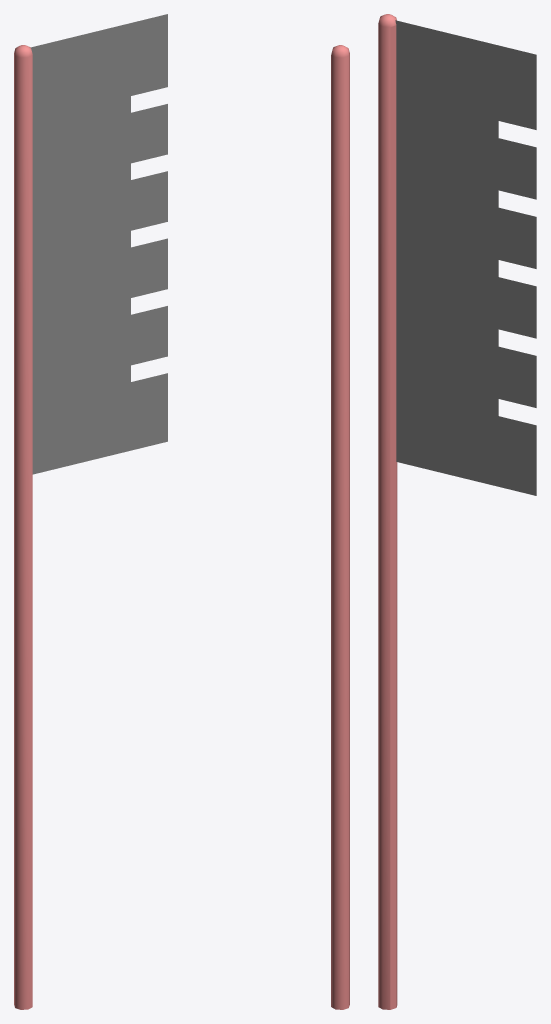
File: CHN_FlagSmall01.gltf
3 views of the same model, side by side, from view 1: azimuth 30°, elevation 25°; view 2: azimuth 150°, elevation 25°; view 3: azimuth 330°, elevation 25° (orthographic). The views are drawn at different scales.
Parts seen in each view (by area): view 1: CHN_FlagSmall01; view 2: CHN_FlagSmall01; view 3: CHN_FlagSmall01.
Boxes of the visible parts, x1,y1,x2,y2 form: CHN_FlagSmall01: (14,14,167,1009); CHN_FlagSmall01: (331,45,349,1009); CHN_FlagSmall01: (378,14,536,1009).
Size of the model in its own units: 1.44 by 8.68 by 0.1583.
